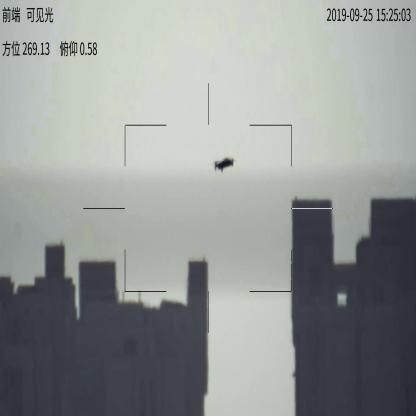uav: (215, 156, 236, 173)
